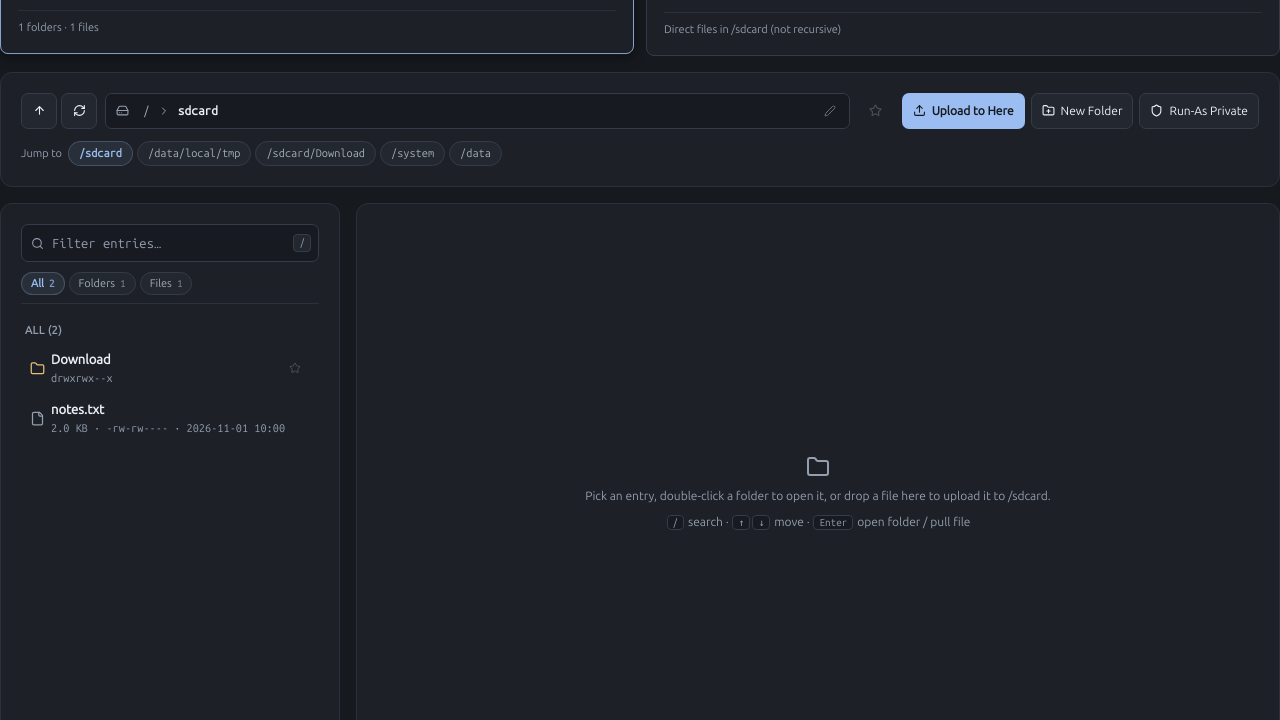
Test: FilesPage workbench › pins the current folder and lists recently opened folders
(page scrolled)
Check: the text "Download" is shown, box x1=51 y1=352 x2=111 y2=366
Click the button named "Pin /sdcard". click: (876, 111)
box: x1=858 y1=93 x2=894 y2=129
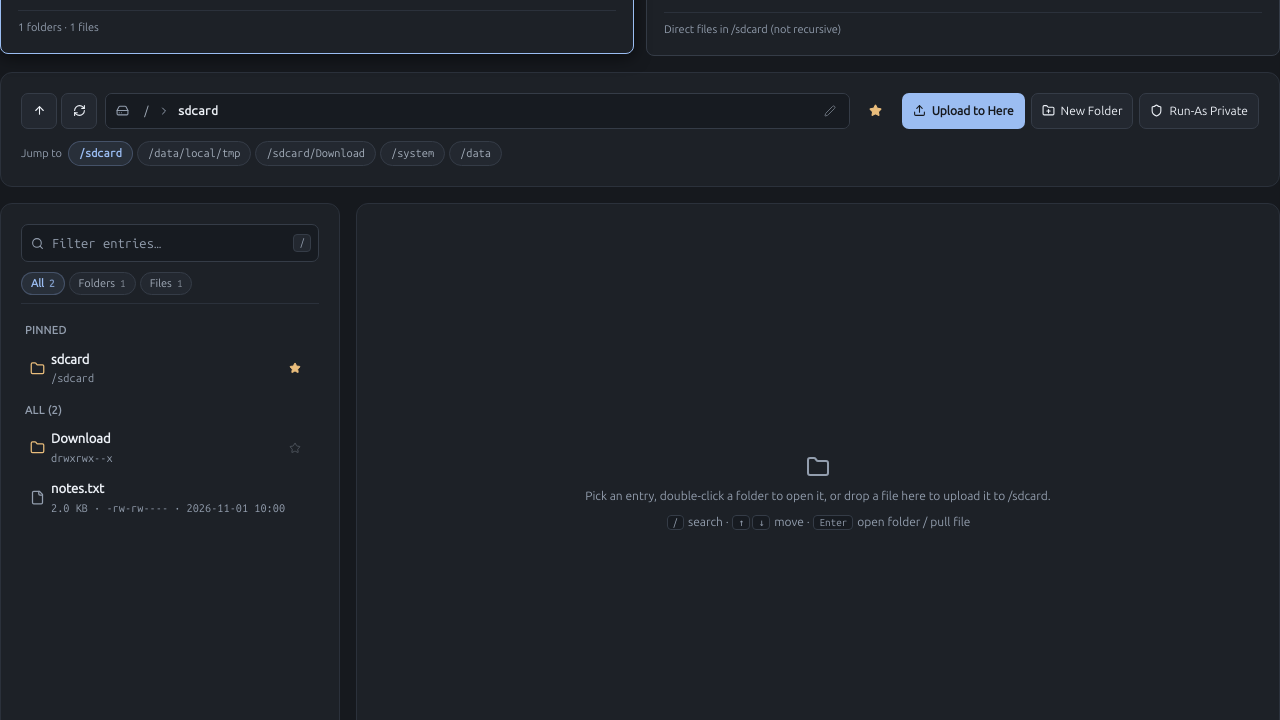
Check: the text "Pinned" is shown, box x1=21 y1=314 x2=319 y2=343
Click the button "/system". click: (413, 153)
box: x1=380 y1=141 x2=445 y2=166
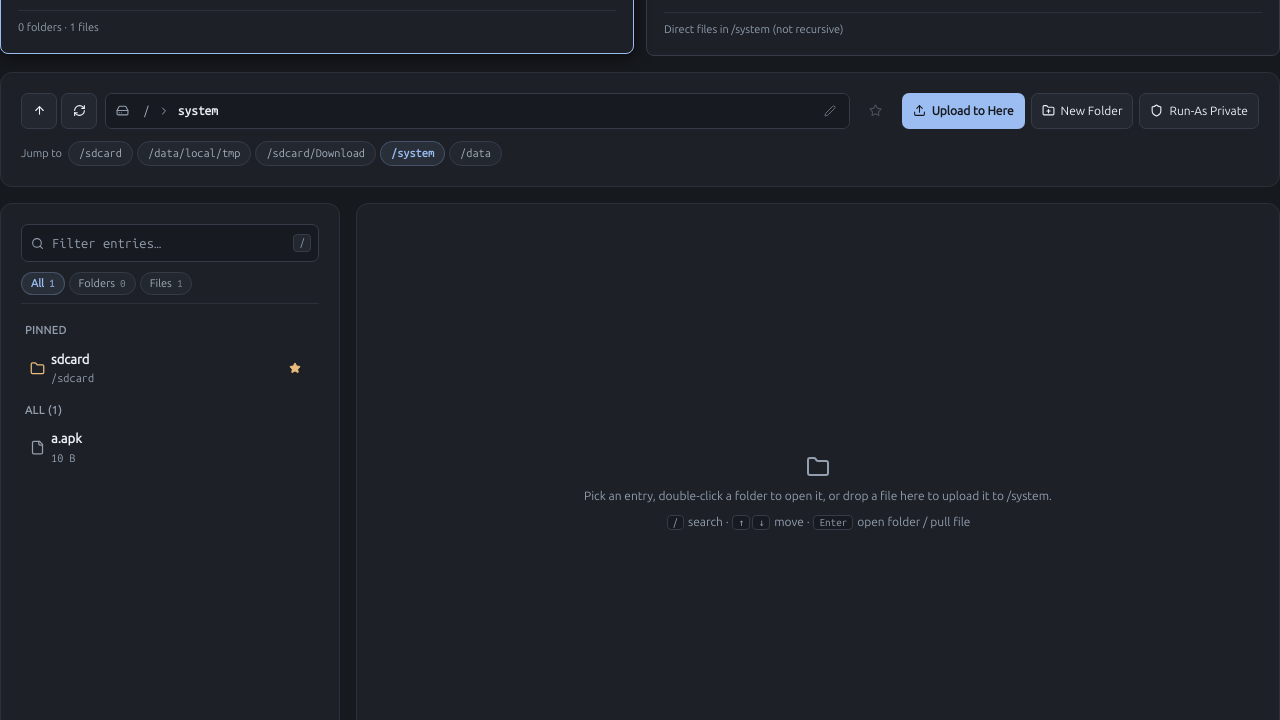
Check: the text "/sdcard" is shown, box x1=51 y1=372 x2=94 y2=384
Check: the text "a.apk" is shown, box x1=51 y1=432 x2=82 y2=446
